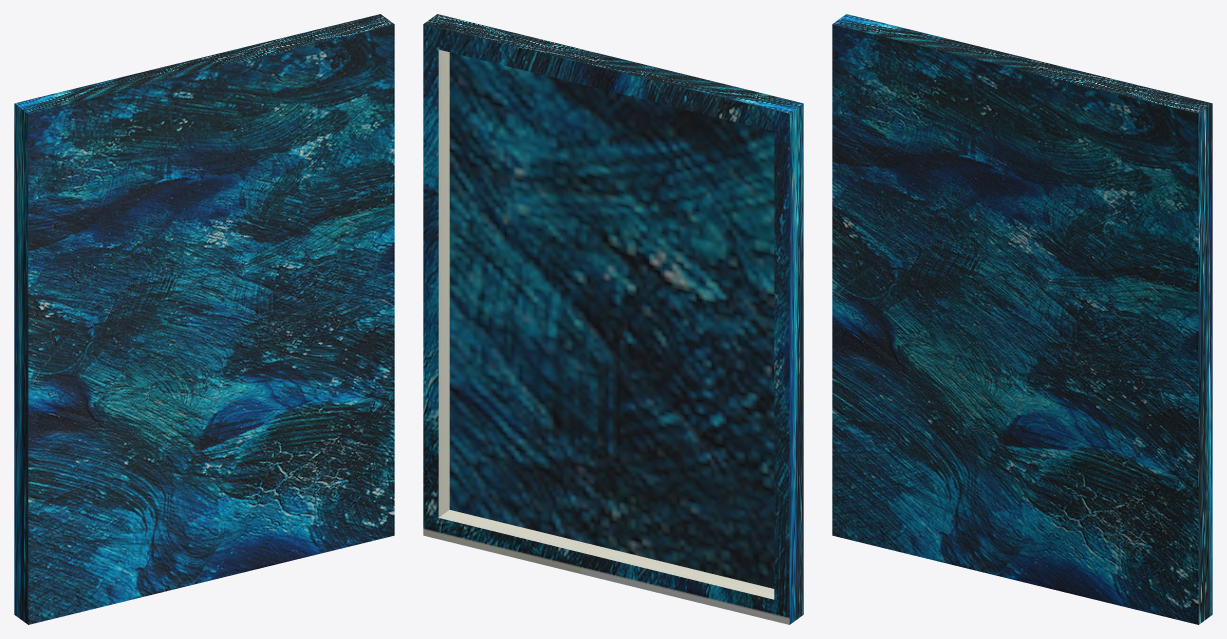
File: Picture_3.fbx
3 views of the same model, side by side, from view 1: azimuth 30°, elevation 25°; view 2: azimuth 150°, elevation 25°; view 3: azimuth 330°, elevation 25° (orthographic).
Parts seen in each view (by area): view 1: Picture_3; view 2: Picture_3; view 3: Picture_3.
Boxes of the visible parts, left/top/right/bottom form: Picture_3: left=14, top=14, right=394, bottom=624; Picture_3: left=423, top=14, right=803, bottom=624; Picture_3: left=832, top=14, right=1212, bottom=624.
Bounding box in the file's own units: 30 × 40 × 2.
